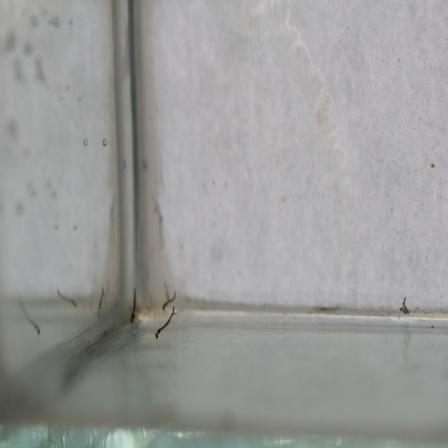Jentik-Nyamuk: (153, 289, 179, 340), (127, 283, 142, 328), (395, 293, 412, 319)
